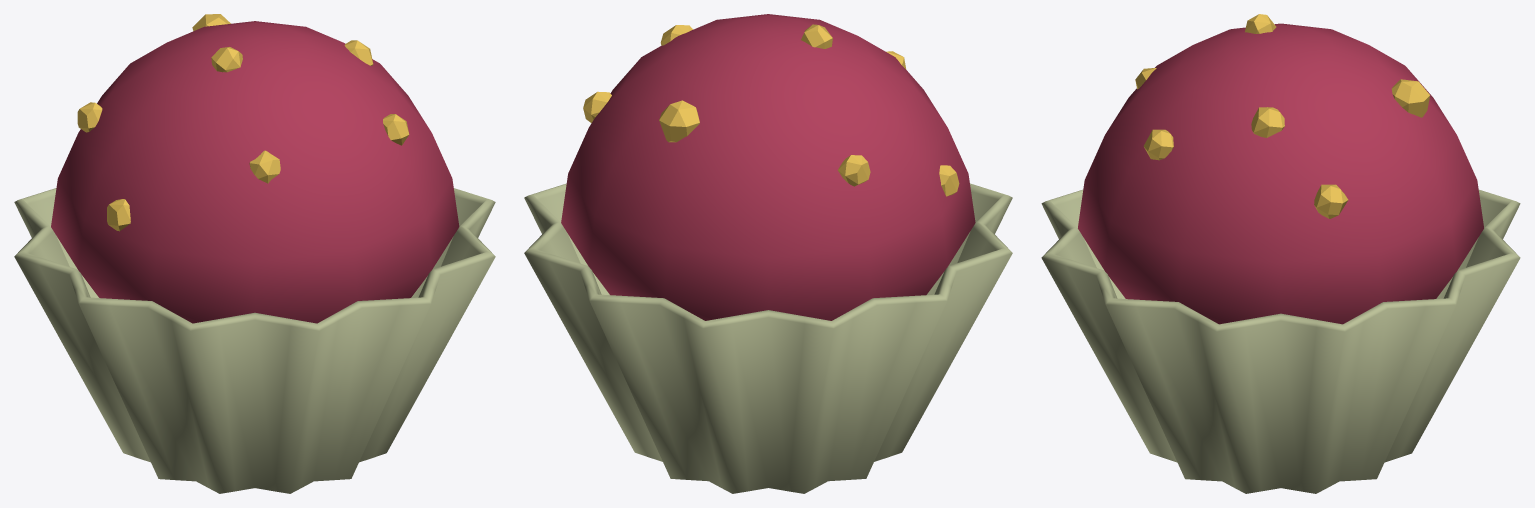
File: Cake.fbx
The picture shows the model from 3 angles, left to right: view 1: azimuth 30°, elevation 25°; view 2: azimuth 150°, elevation 25°; view 3: azimuth 270°, elevation 25°; orthographic projection.
Visible parts, largest first — view 1: Cake; view 2: Cake; view 3: Cake.
Boxes of the visible parts, x1=… form: Cake: x1=14, y1=14, x2=495, y2=493; Cake: x1=524, y1=14, x2=1012, y2=493; Cake: x1=1041, y1=14, x2=1520, y2=493.
Size of the model in its own units: 1.34 by 1.34 by 1.25.
